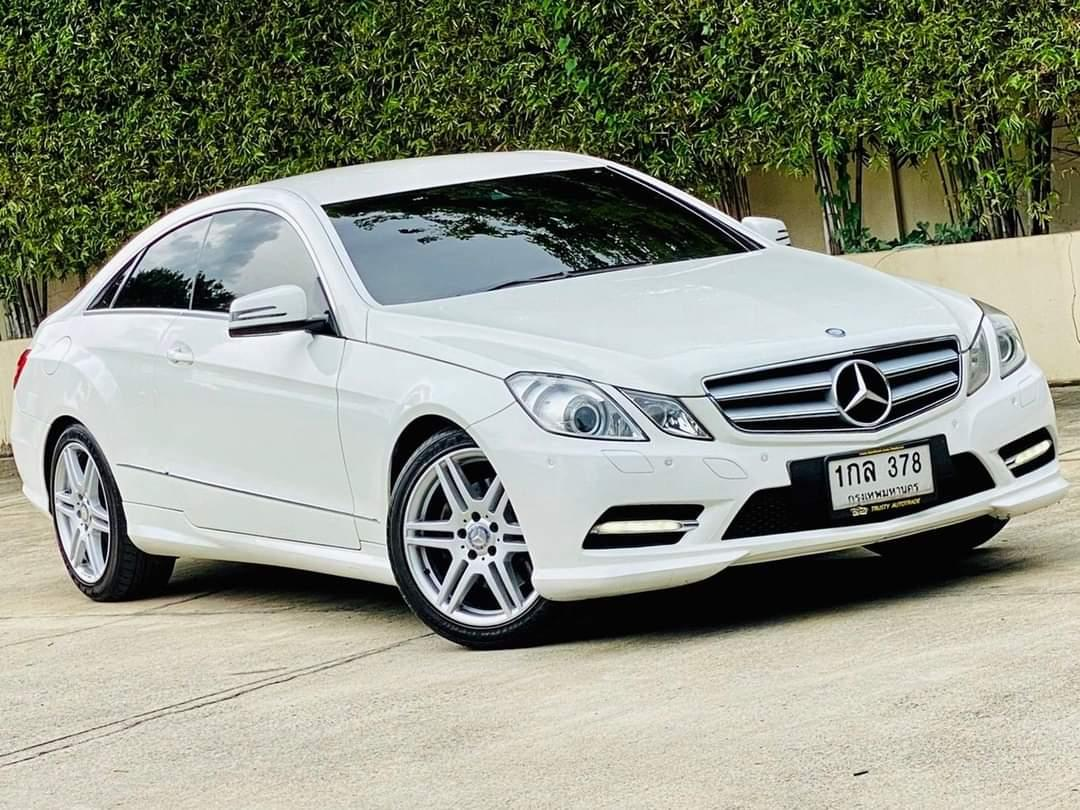license-plate: (825, 435, 939, 524)
